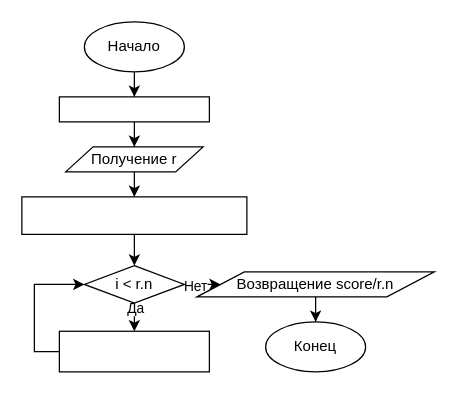
This 456x394 diagram has some shape labels left out. Here are the shapes that lost their labels. From the top down, the centre of each, then its label:
At point 133,109: "Объект Report& r".
At point 134,215: "Вещественное число score = 0, Натуральное число i = 0".
At point 133,351: "score += r.scores[i] i++".
